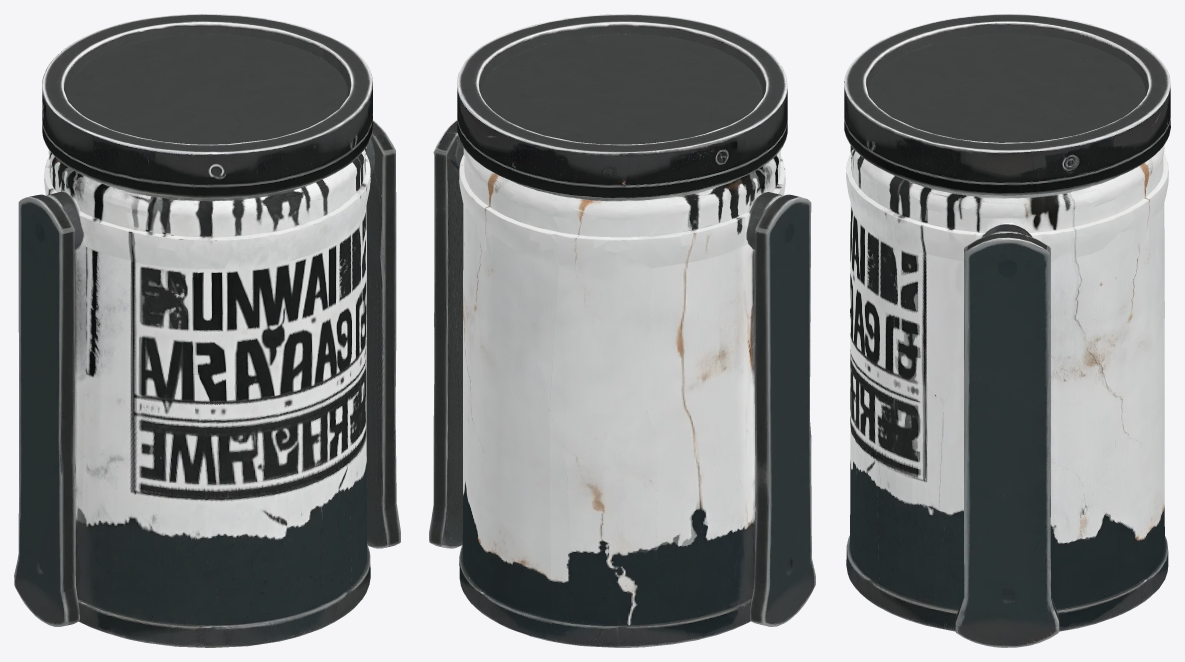
Rendered from waste_bin.glb.
3 views of the same model, side by side, from view 1: azimuth 30°, elevation 25°; view 2: azimuth 150°, elevation 25°; view 3: azimuth 270°, elevation 25° (orthographic). The views are drawn at different scales.
Bounding box in the file's own units: 1.34 × 1.9 × 1.15.
Materials: 1 (1 with a texture image).
